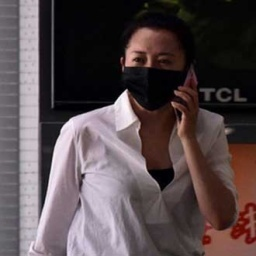correctlyWear: (118, 40, 189, 111)
